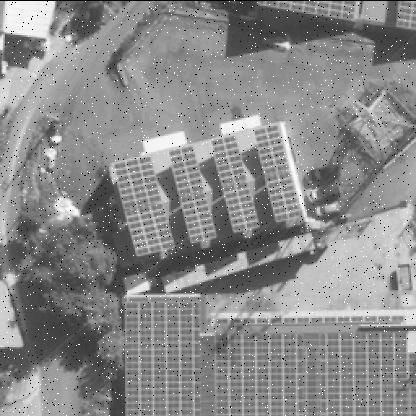solar-pv-panel: (125, 302, 199, 416), (321, 329, 416, 416), (215, 331, 305, 416), (112, 155, 177, 257), (254, 123, 303, 221), (168, 145, 217, 242), (211, 134, 260, 231), (258, 0, 355, 18), (307, 347, 317, 416), (396, 0, 416, 31)
